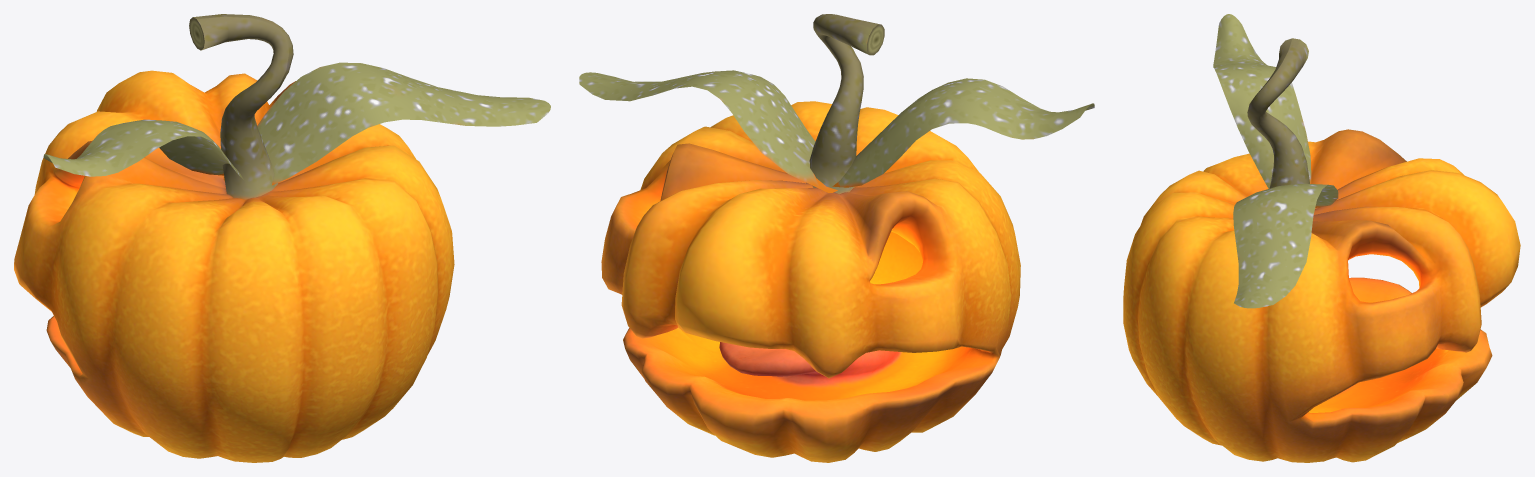
File: pumpkin.glb
3 views of the same model, side by side, from view 1: azimuth 30°, elevation 25°; view 2: azimuth 150°, elevation 25°; view 3: azimuth 270°, elevation 25° (orthographic). The views are drawn at different scales.
Visible parts, largest first — view 1: pumpkin; view 2: pumpkin; view 3: pumpkin.
Part boxes in pixels (x1,y1,x2,y2): pumpkin: [14, 14, 550, 462]; pumpkin: [579, 14, 1094, 462]; pumpkin: [1123, 14, 1520, 462].
Bounding box in the file's own units: 1.32 × 1.02 × 1.01.
Materials: 1 (1 with a texture image).
